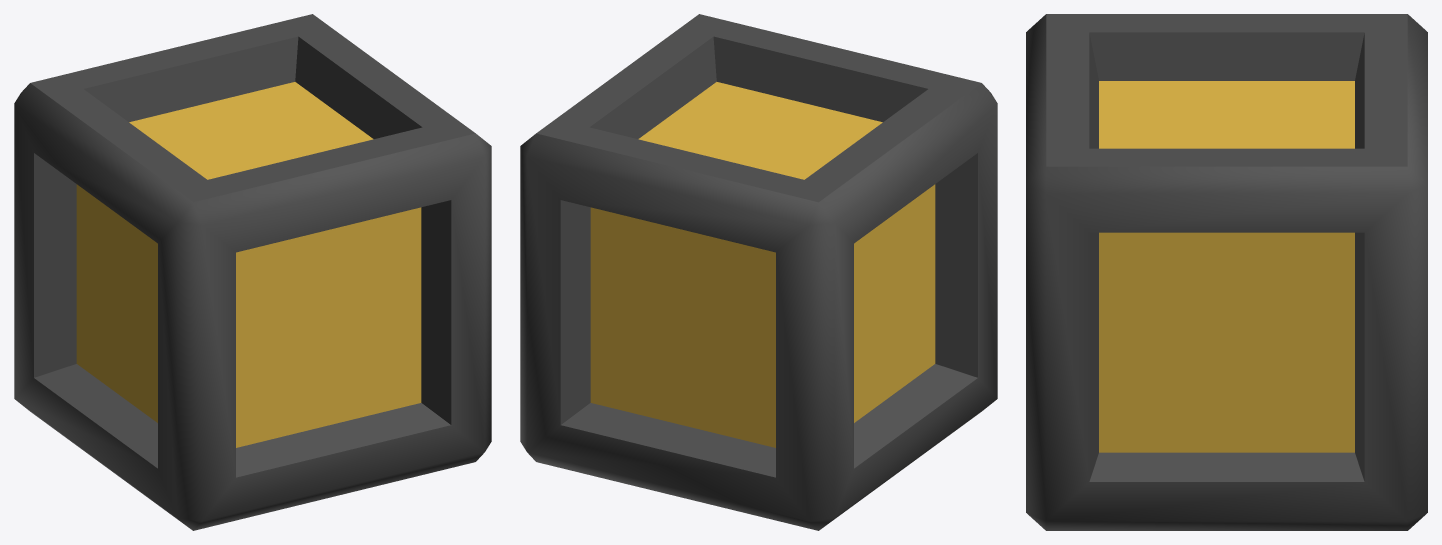
File: box_small.fbx
3 views of the same model, side by side, from view 1: azimuth 30°, elevation 25°; view 2: azimuth 150°, elevation 25°; view 3: azimuth 270°, elevation 25° (orthographic). The views are drawn at different scales.
Visible parts, largest first — view 1: box_small; view 2: box_small; view 3: box_small.
Part boxes in pixels (x1,y1,x2,y2): box_small: (14, 14, 491, 530); box_small: (520, 14, 997, 530); box_small: (1026, 14, 1427, 530).
Bounding box in the file's own units: 100 × 100 × 100.
